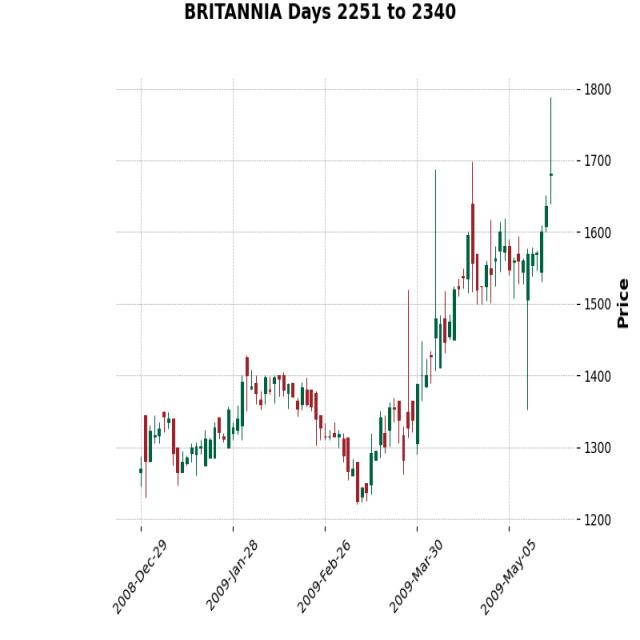Triple Bottom Reversal: (130, 330, 411, 512)
